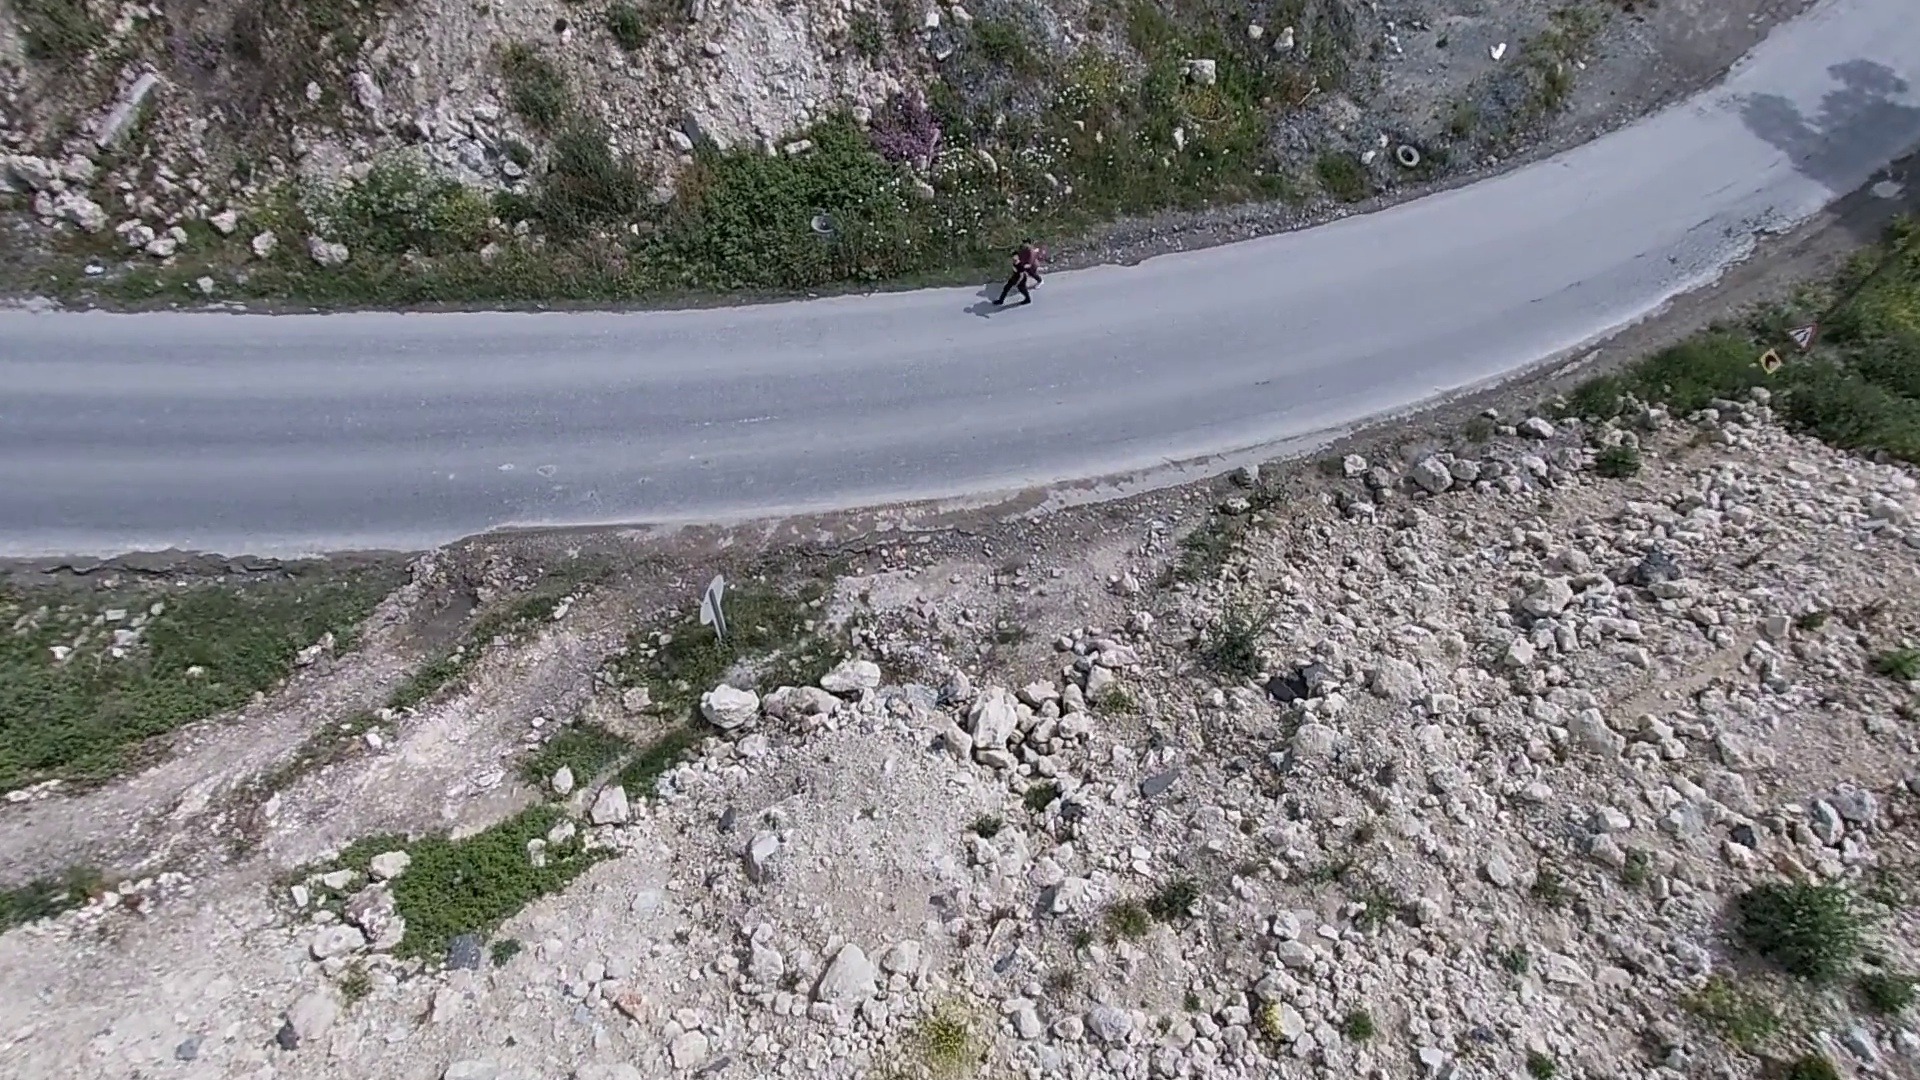insan: (991, 248, 1034, 312), (1016, 236, 1051, 291)
